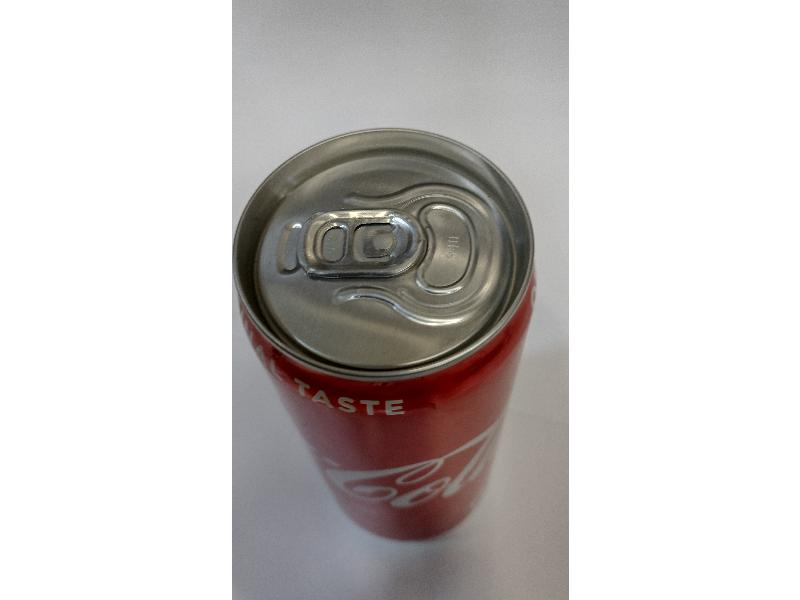can: (235, 117, 541, 535)
